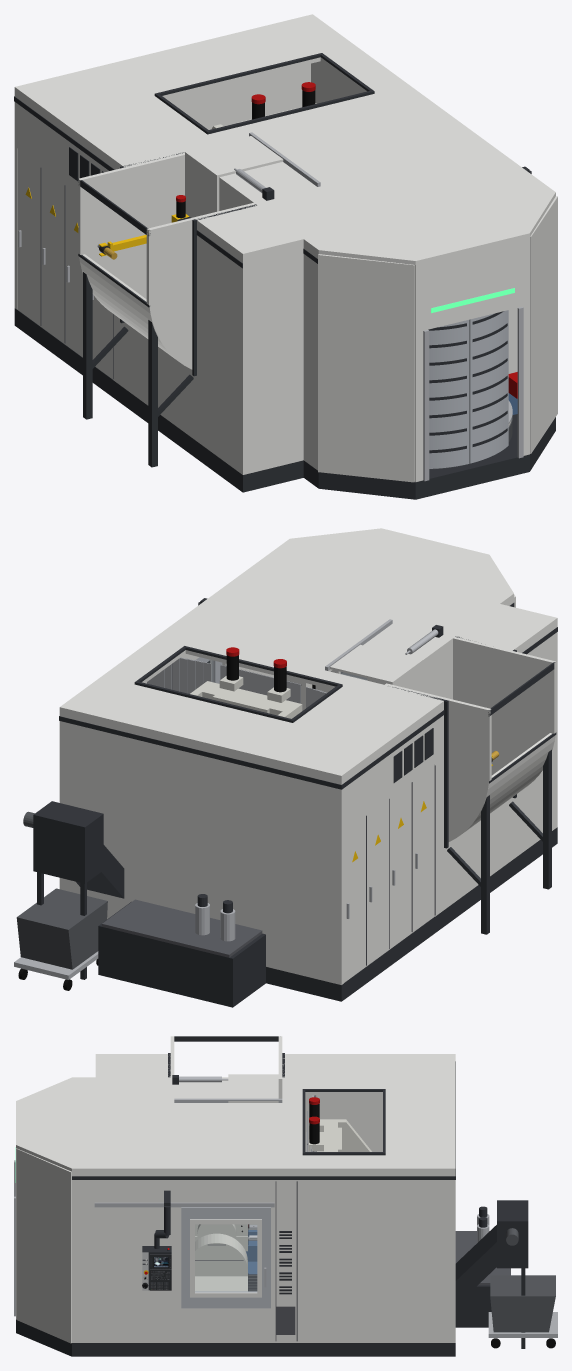
The model's file is hmc_x1200_5ax_white_right.glb.
The picture shows the model from 3 angles, top to bottom: view 1: azimuth 30°, elevation 25°; view 2: azimuth 150°, elevation 25°; view 3: azimuth 270°, elevation 25°; orthographic projection. The views are drawn at different scales.
Parts seen in each view (by area): view 1: enclosure__hmc_white, apc_housing__hmc_white, tc_box__hmc_white, electrical_cabinet__hmc_white, enclosure__anthracite, apc_housing__anthracite, apc_door_left__door_grey, apc_door_right__door_grey, tc_box__anthracite, tc_door__hmc_white, apc_housing__steel, apc_door_left__anthracite (+3 smaller); view 2: enclosure__hmc_white, tc_box__hmc_white, chip_coolant__anthracite, electrical_cabinet__hmc_white, enclosure__anthracite, apc_housing__hmc_white, chip_cart__steel_dark, chip_coolant__anthracite_lt, tc_box__anthracite, tc_door__hmc_white, column__struct_grey, ycov_U_0__steel (+5 smaller); view 3: enclosure__hmc_white, apc_housing__hmc_white, enclosure__anthracite, chip_coolant__anthracite, operator_door__glass_clear, operator_door__door_grey, chip_cart__steel_dark, table__struct_grey, enclosure__steel, operator_door__hmc_white, column__struct_grey, tc_door__hmc_white (+10 smaller).
Part boxes in pixels (x1=…): enclosure__hmc_white: x1=14, y1=14, x2=540, y2=474; apc_housing__hmc_white: x1=303, y1=181, x2=557, y2=482; tc_box__hmc_white: x1=78, y1=152, x2=255, y2=369; electrical_cabinet__hmc_white: x1=17, y1=149, x2=113, y2=379; enclosure__anthracite: x1=14, y1=53, x2=374, y2=492; apc_housing__anthracite: x1=303, y1=248, x2=555, y2=499; apc_door_left__door_grey: x1=429, y1=320, x2=469, y2=468; apc_door_right__door_grey: x1=469, y1=310, x2=508, y2=463; tc_box__anthracite: x1=78, y1=178, x2=193, y2=467; tc_door__hmc_white: x1=185, y1=136, x2=283, y2=217; apc_housing__steel: x1=423, y1=307, x2=523, y2=481; apc_door_left__anthracite: x1=428, y1=323, x2=466, y2=453; enclosure__hmc_white: x1=59, y1=549, x2=557, y2=984; tc_box__hmc_white: x1=388, y1=637, x2=556, y2=841; chip_coolant__anthracite: x1=33, y1=801, x2=265, y2=1007; electrical_cabinet__hmc_white: x1=343, y1=764, x2=434, y2=982; enclosure__anthracite: x1=59, y1=625, x2=557, y2=1001; apc_housing__hmc_white: x1=276, y1=528, x2=515, y2=688; chip_cart__steel_dark: x1=16, y1=888, x2=107, y2=969; chip_coolant__anthracite_lt: x1=102, y1=899, x2=262, y2=957; tc_box__anthracite: x1=447, y1=662, x2=556, y2=934; tc_door__hmc_white: x1=330, y1=644, x2=422, y2=691; column__struct_grey: x1=190, y1=676, x2=302, y2=718; ycov_U_0__steel: x1=220, y1=665, x2=300, y2=703; enclosure__hmc_white: x1=95, y1=1054, x2=455, y2=1342; apc_housing__hmc_white: x1=16, y1=1077, x2=95, y2=1343; enclosure__anthracite: x1=95, y1=1053, x2=455, y2=1356; chip_coolant__anthracite: x1=455, y1=1200, x2=528, y2=1348; operator_door__glass_clear: x1=195, y1=1225, x2=256, y2=1291; operator_door__door_grey: x1=181, y1=1207, x2=270, y2=1308; chip_cart__steel_dark: x1=490, y1=1275, x2=555, y2=1332; table__struct_grey: x1=195, y1=1224, x2=247, y2=1291; enclosure__steel: x1=94, y1=1076, x2=282, y2=1207; operator_door__hmc_white: x1=190, y1=1219, x2=261, y2=1297; column__struct_grey: x1=309, y1=1119, x2=371, y2=1151; tc_door__hmc_white: x1=228, y1=1074, x2=278, y2=1102.
Bounding box in the file's own units: 5.08 × 3.22 × 7.86.
20 materials, 2 textured.
